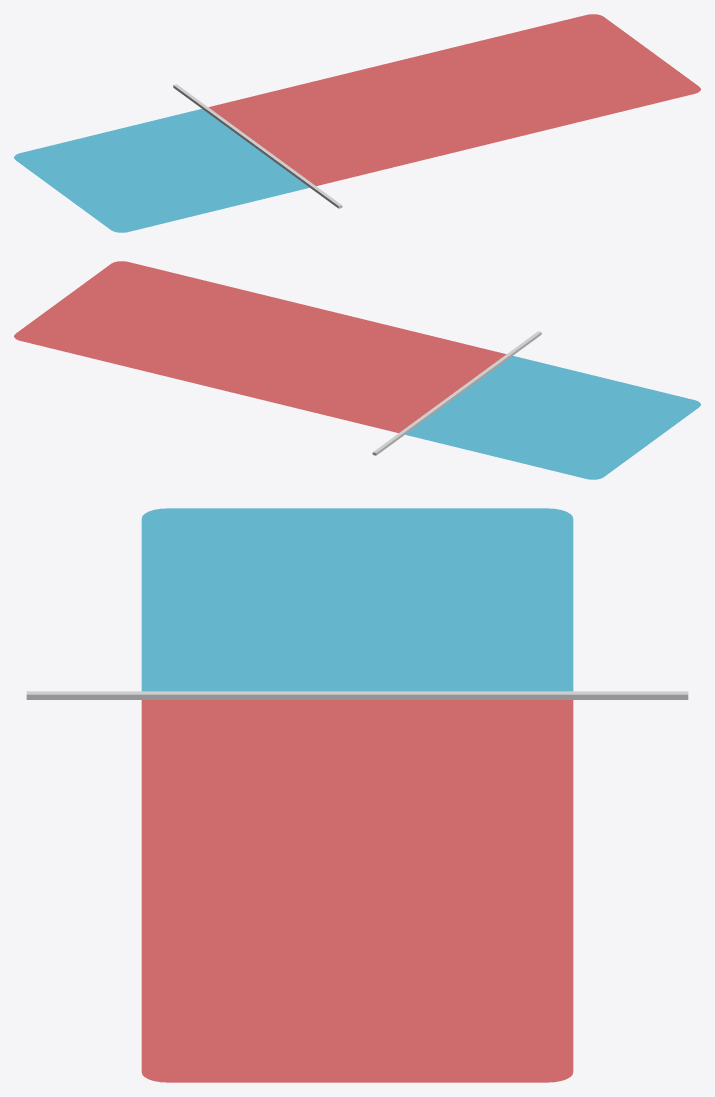
Rendered from SweapRight.fbx.
3 views of the same model, one above another, from view 1: azimuth 30°, elevation 25°; view 2: azimuth 150°, elevation 25°; view 3: azimuth 270°, elevation 25° (orthographic). The views are drawn at different scales.
Visible parts, largest first — view 1: SupportLine1.003; view 2: SupportLine1.003; view 3: SupportLine1.003.
Boxes of the visible parts, x1=… form: SupportLine1.003: x1=14, y1=14, x2=700, y2=232; SupportLine1.003: x1=14, y1=261, x2=700, y2=479; SupportLine1.003: x1=26, y1=508, x2=688, y2=1082.
Size of the model in its own units: 118 by 0.5 by 57.5.
